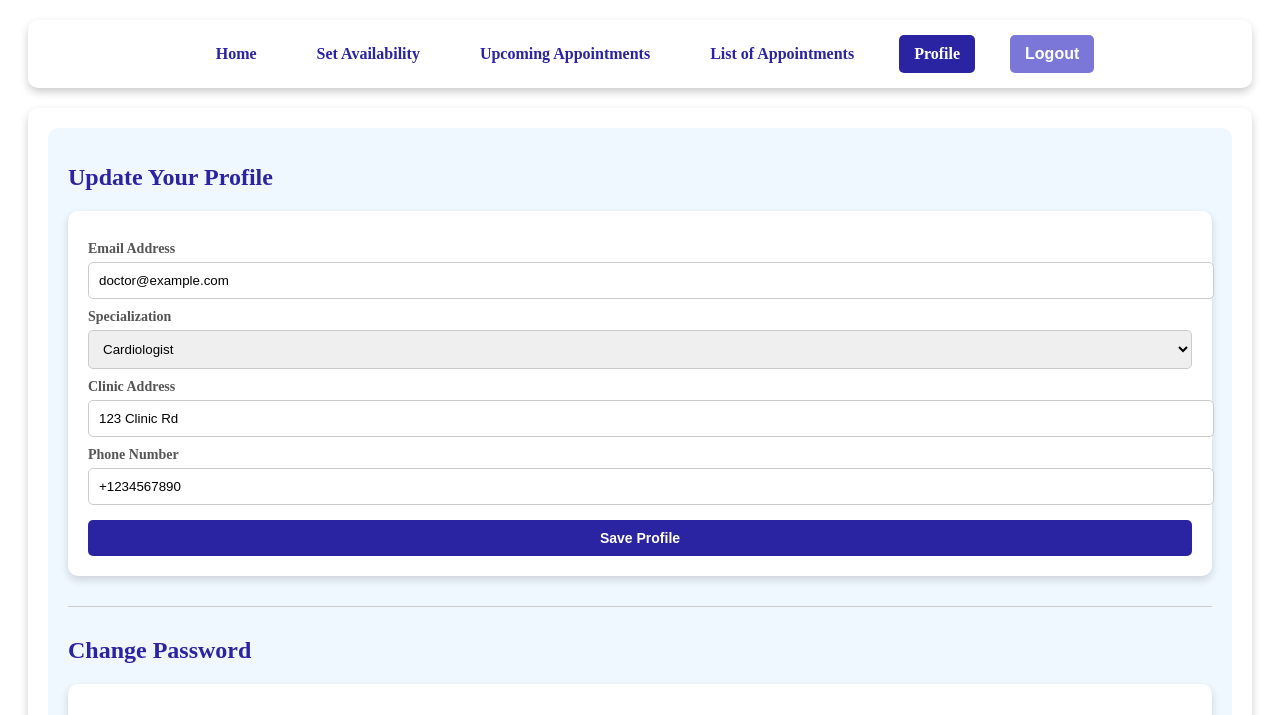
Doctor Profile Page › shows error for invalid phone number and prevents saving
Replace the text in the field with test id "phone" with "123456". click: (651, 487)
box: left=88, top=468, right=1214, bottom=505
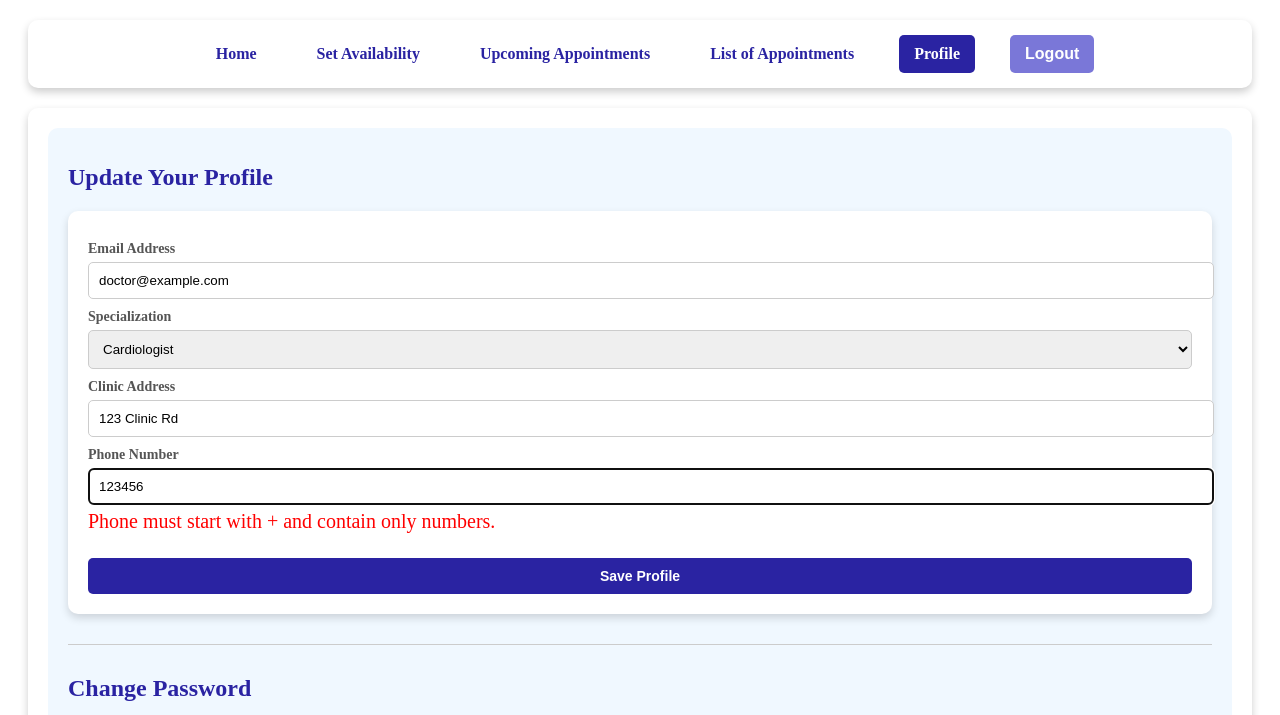
Now the text "Phone must start with + and contain only numbers." is shown, box left=88, top=510, right=495, bottom=532
